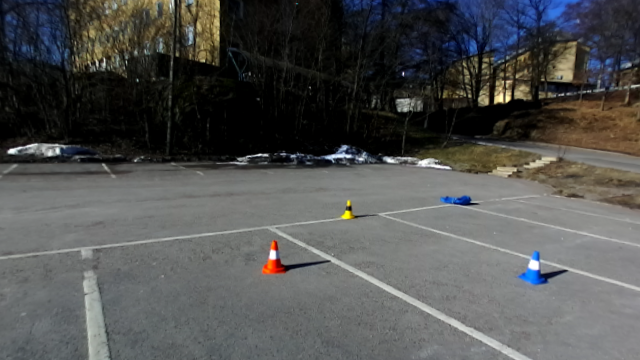blue: (517, 247, 549, 287)
orange: (261, 240, 288, 275)
yellow: (339, 197, 355, 221)
